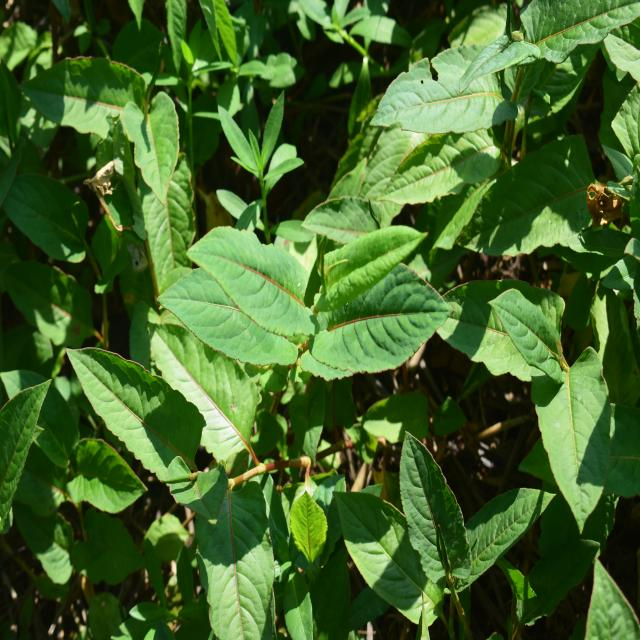Chinese_knotweed: (89, 309, 292, 614), (166, 219, 439, 410)
